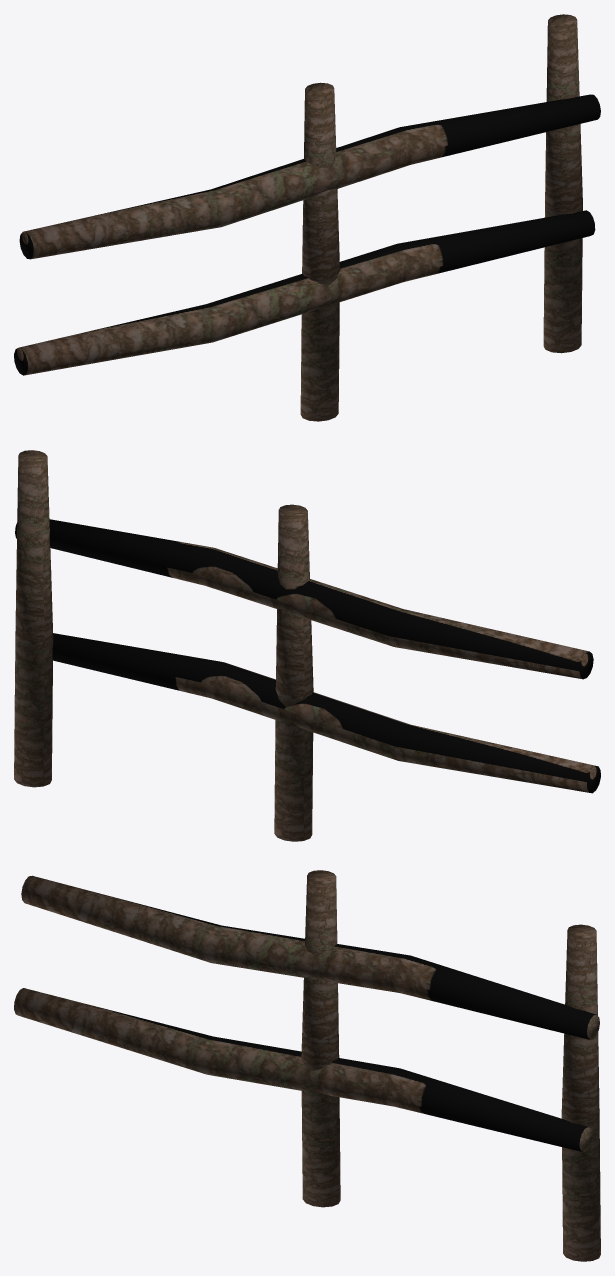
File: fence 1.fbx
3 renders of one model, top to bottom at view 1: azimuth 30°, elevation 25°; view 2: azimuth 150°, elevation 25°; view 3: azimuth 330°, elevation 25°, orthographic.
Visible parts, largest first — view 1: fence 1; view 2: fence 1; view 3: fence 1.
Boxes of the visible parts, <box> form: fence 1: <box>14,14,600,421</box>; fence 1: <box>14,450,600,841</box>; fence 1: <box>14,870,600,1261</box>.
Bounding box in the file's own units: 2.53 × 1.37 × 0.2291.
